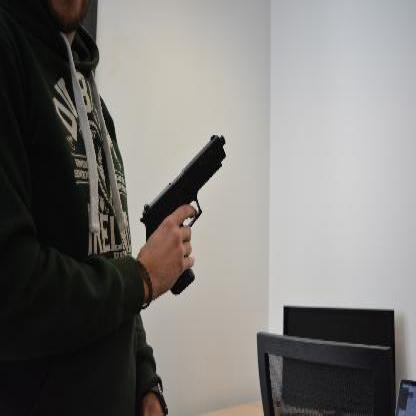pistol: (138, 131, 226, 294)
